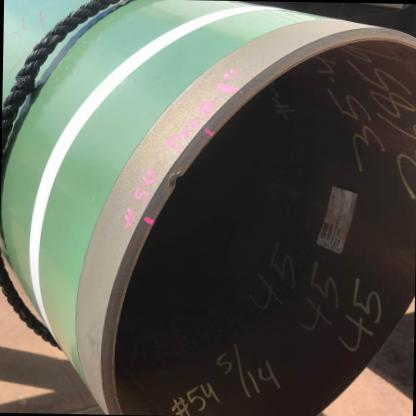Bevel: (160, 168, 192, 191)
